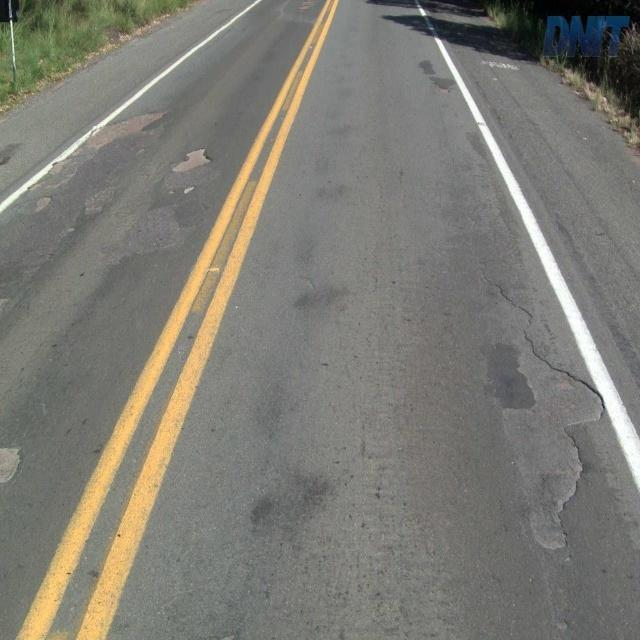pothole: (471, 250, 608, 573), (90, 105, 172, 150), (0, 436, 26, 489), (173, 144, 217, 175), (434, 84, 453, 103)
